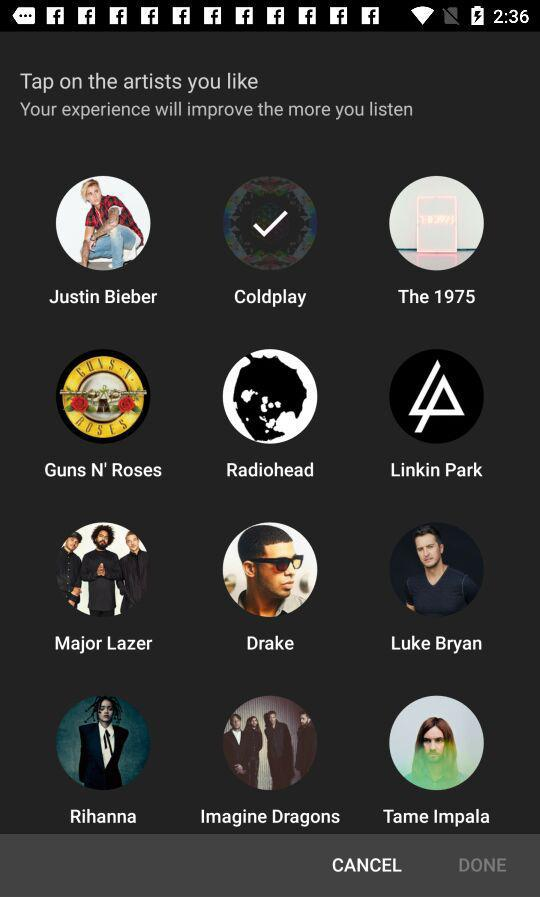Image: (389, 349, 485, 446), (222, 522, 318, 618), (56, 176, 152, 272), (389, 176, 484, 272), (224, 177, 319, 273), (389, 695, 484, 790), (223, 349, 318, 444), (225, 697, 318, 790), (57, 697, 150, 790), (391, 523, 484, 616), (57, 523, 150, 616), (57, 351, 150, 444)
Text: (20, 101, 413, 121), (21, 73, 264, 94), (201, 808, 341, 828), (382, 808, 490, 828), (46, 461, 163, 478), (55, 636, 154, 655), (392, 635, 483, 655), (49, 289, 158, 305), (390, 461, 483, 478), (227, 462, 315, 479), (234, 288, 307, 308), (397, 289, 476, 305), (332, 857, 403, 874), (71, 808, 138, 824), (457, 856, 507, 873), (247, 634, 295, 651)
UpperTaskBar: (1, 1, 540, 33)
